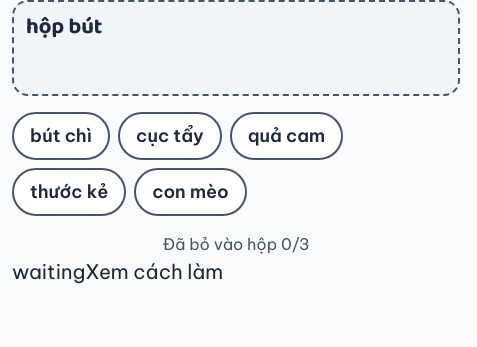
Test case: tap-hop: pick the items of the pencil box › goes green with the closing line and a jingle when the right three are in the box
Click the button "bút chì": (61, 136) [12,112,110,160]
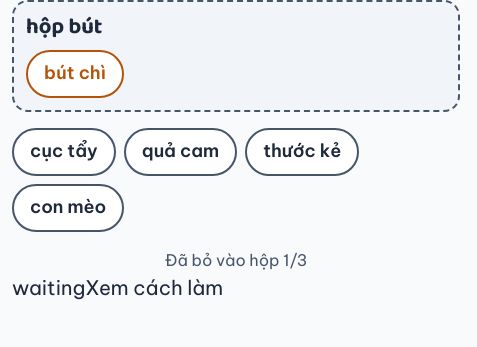
Click the button "cục tẩy": (64, 152) [12,128,116,176]
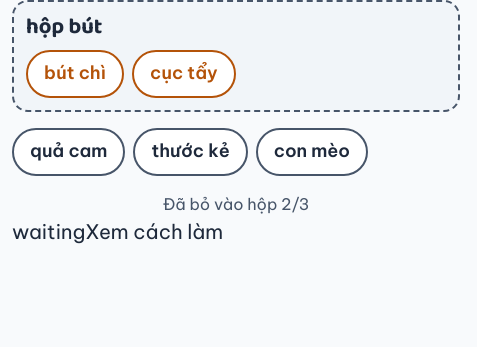
Click the button "thước kẻ": (191, 152) [133,128,248,176]
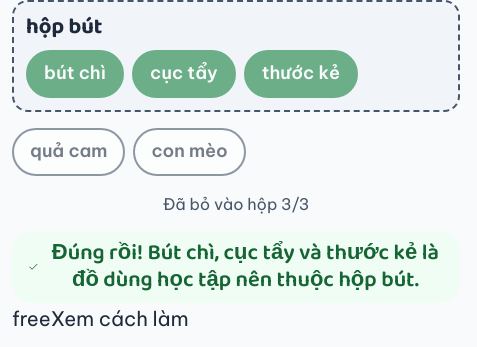
Check: the text with test id "bar" reads "free", box [12,306,51,330]
Check: the button with aria-label "Lấy thước kẻ ra khỏi hộp" is disabled, box [244,50,358,98]
